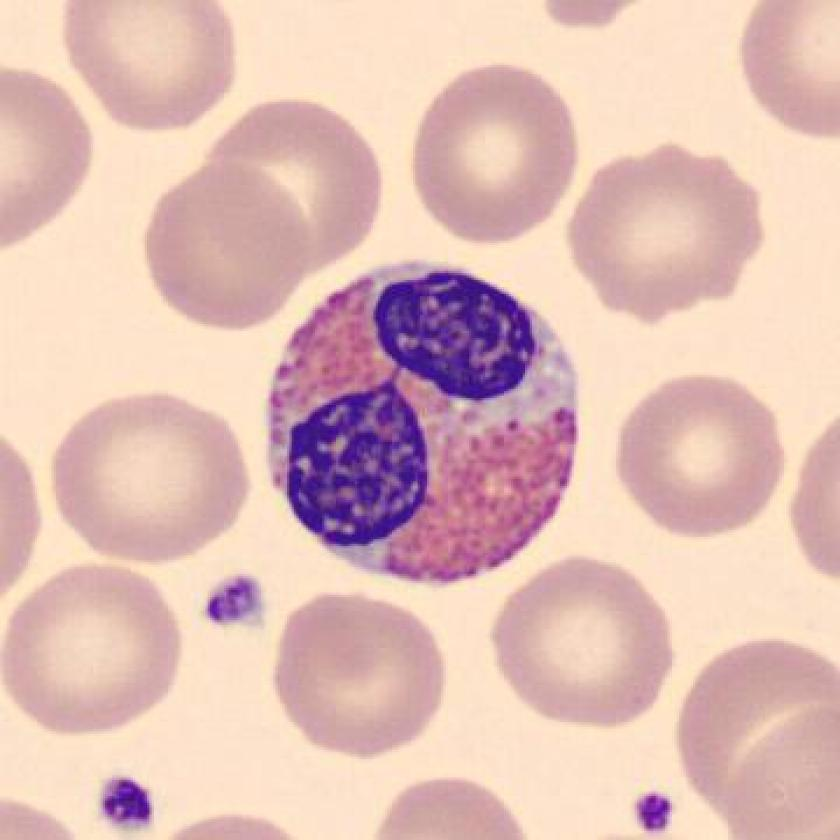eosinophil: (253, 254, 601, 594)
